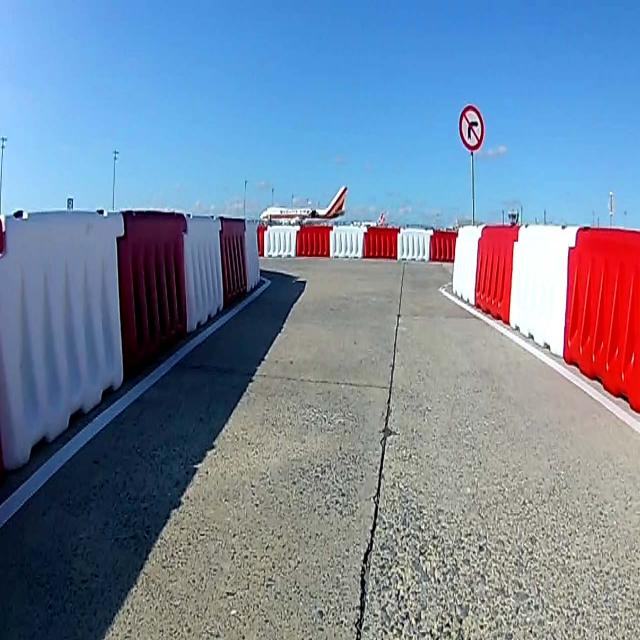sagadonulmez: (459, 105, 485, 152)
